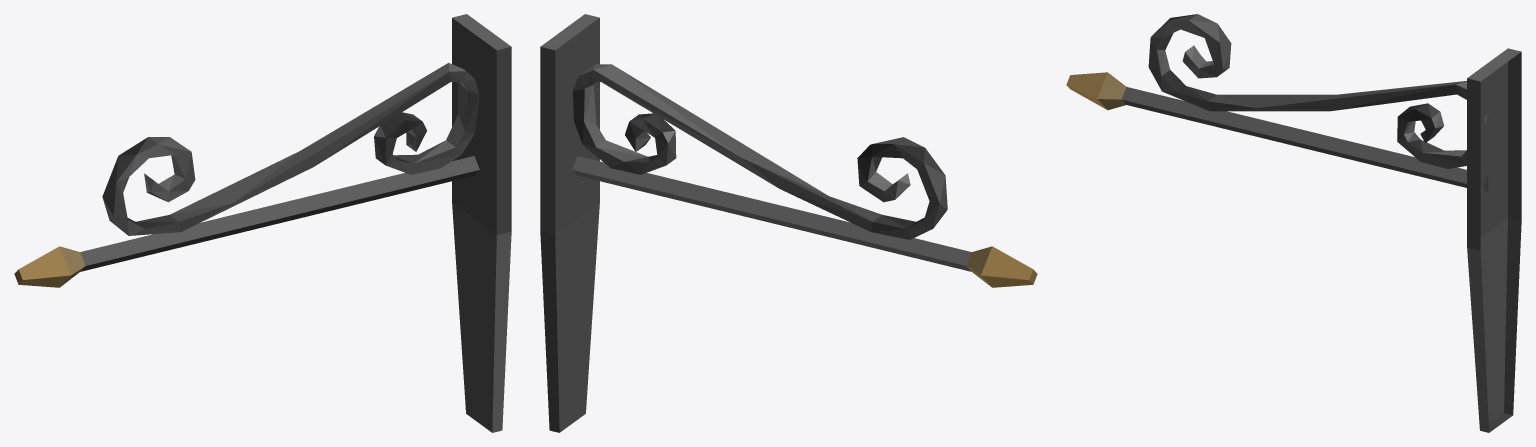
File: SignHolderA.fbx
3 renders of one model, left to right at view 1: azimuth 30°, elevation 25°; view 2: azimuth 150°, elevation 25°; view 3: azimuth 330°, elevation 25°, orthographic. The views are drawn at different scales.
Visible parts, largest first — view 1: SignHolderA; view 2: SignHolderA; view 3: SignHolderA.
Part boxes in pixels (x1=…): SignHolderA: x1=14, y1=14, x2=511, y2=432; SignHolderA: x1=540, y1=14, x2=1037, y2=432; SignHolderA: x1=1066, y1=14, x2=1521, y2=432.
Bounding box in the file's own units: 166 × 132 × 27.33.
